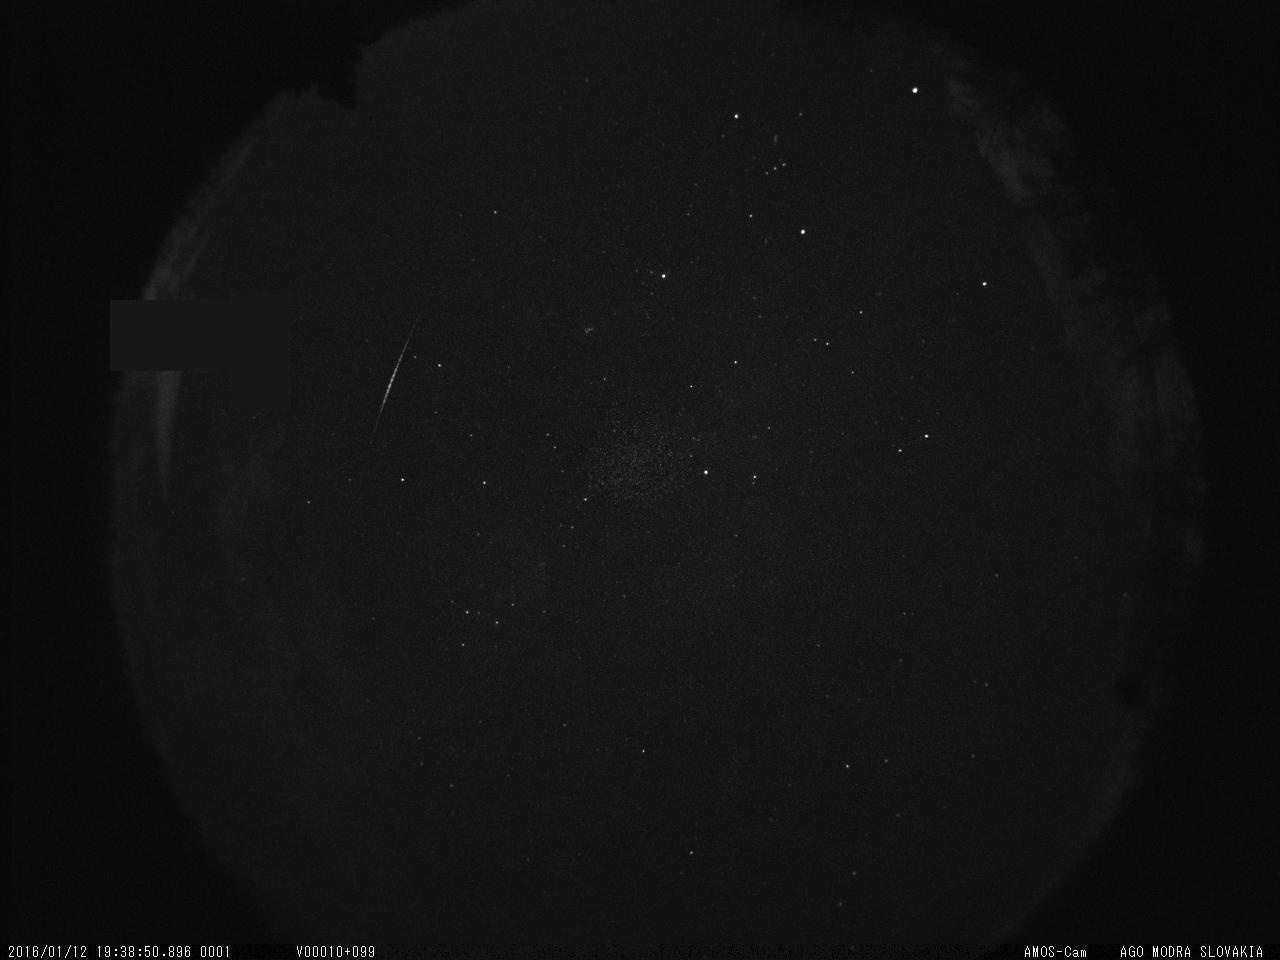meteor: (344, 328, 443, 442)
